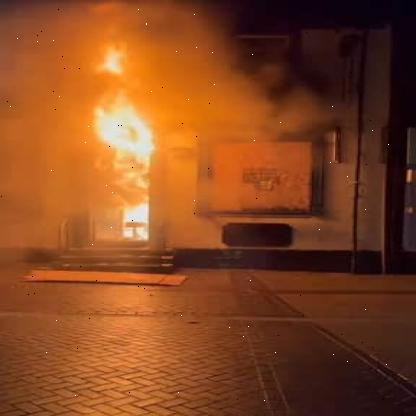fire: (89, 40, 161, 249)
smoke: (0, 0, 340, 267)
